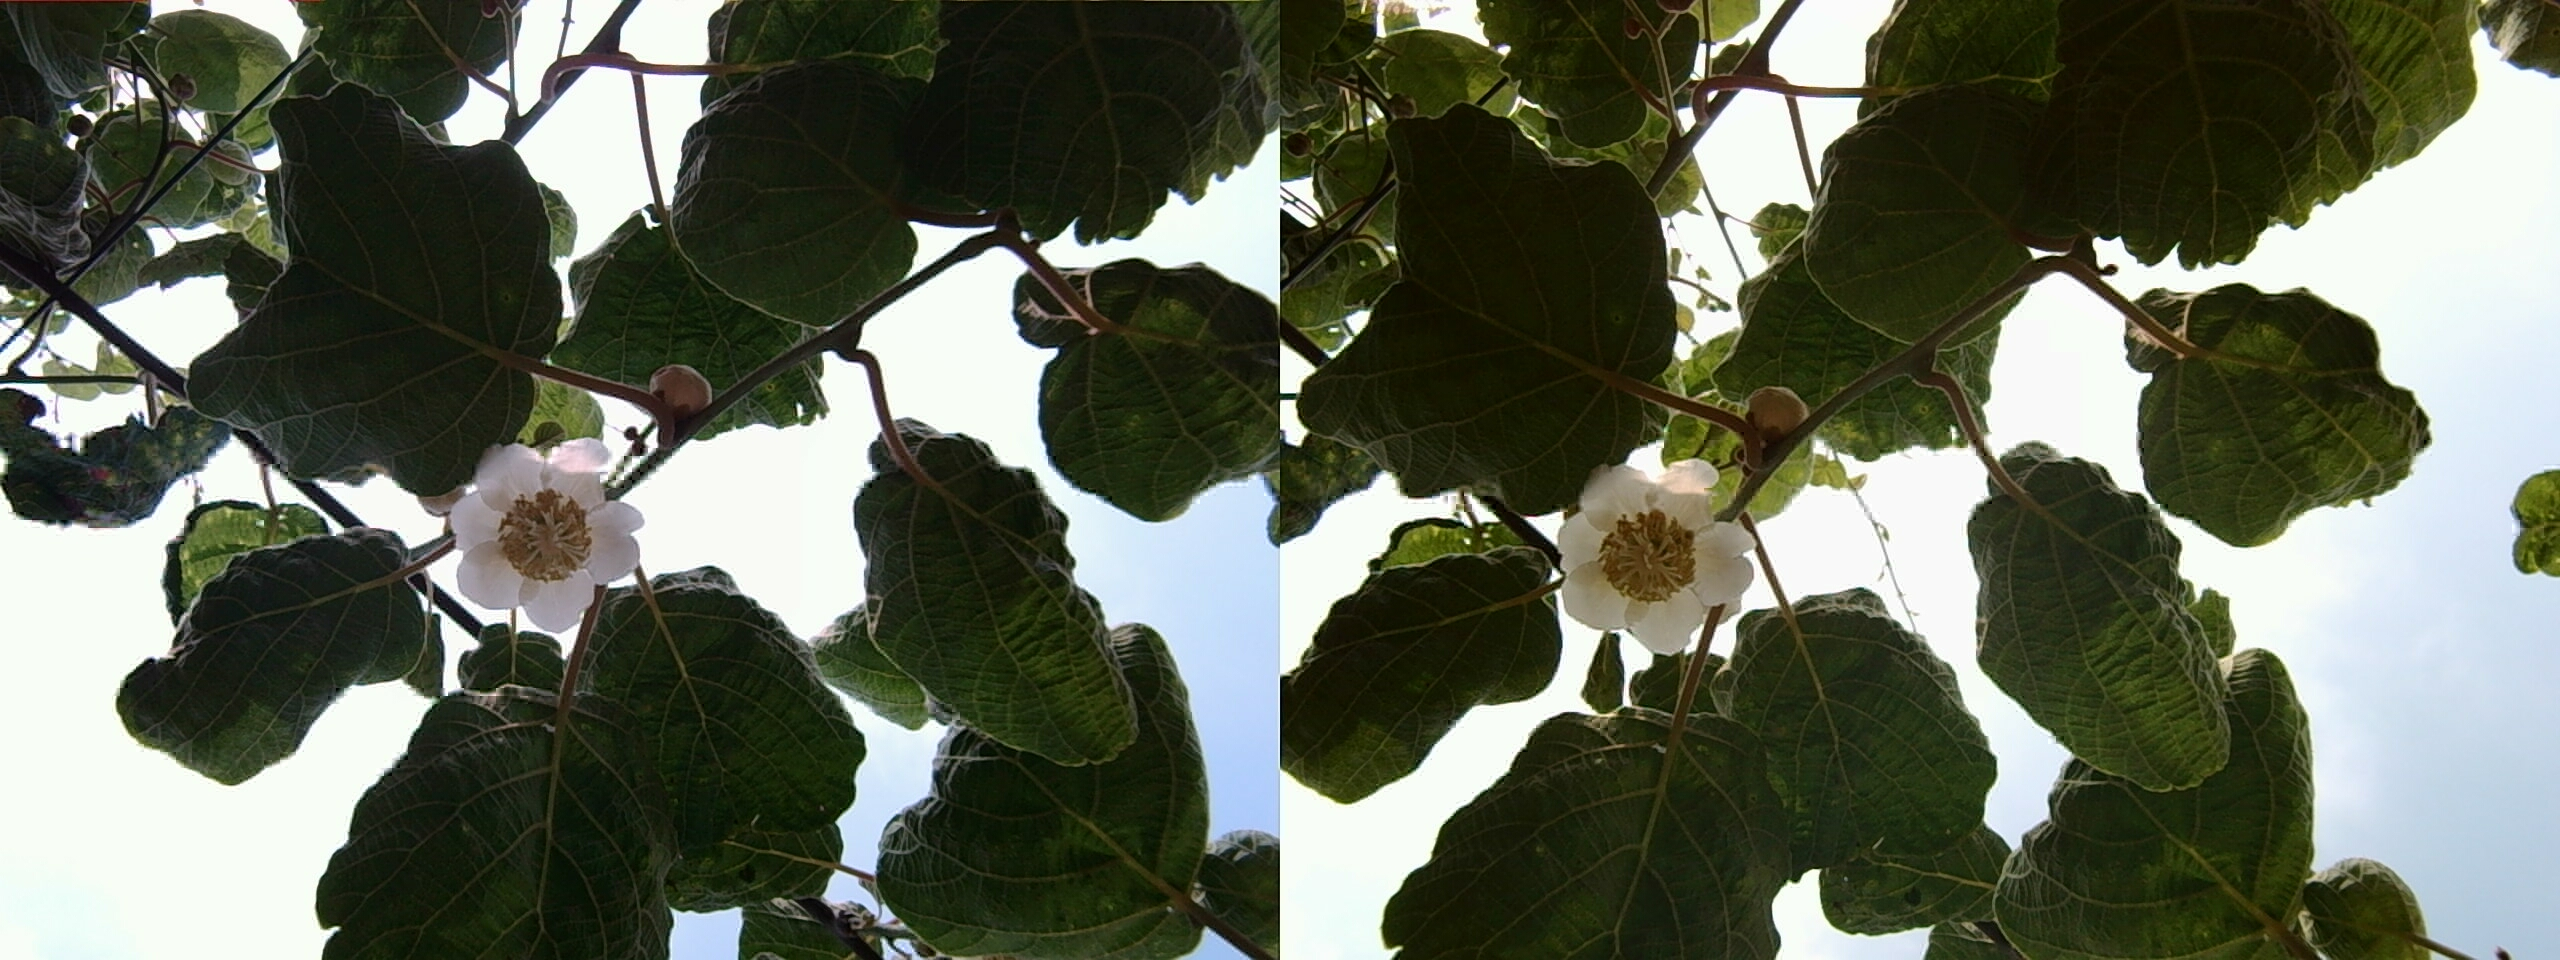flower: (1546, 442, 1753, 651), (433, 431, 647, 622)
